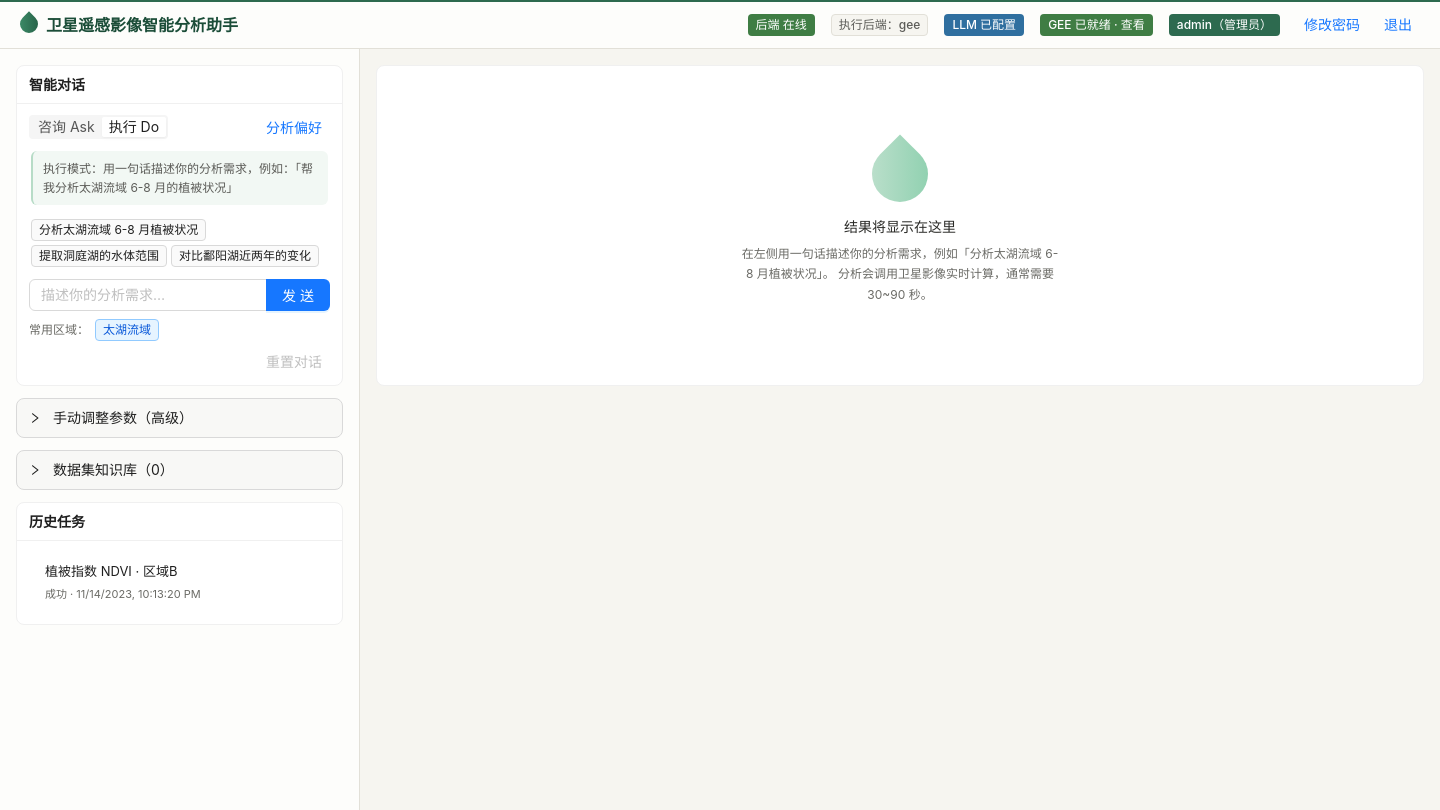
App · F6 详情加载失败不许停在"加载中" › 历史任务详情返回非 2xx 时，右栏给出明确失败而不是永久转圈
This screenshot has width=1440, height=810.
Click the text "植被指数 NDVI · 区域B": (88, 571) x1=45 y1=563 x2=177 y2=579
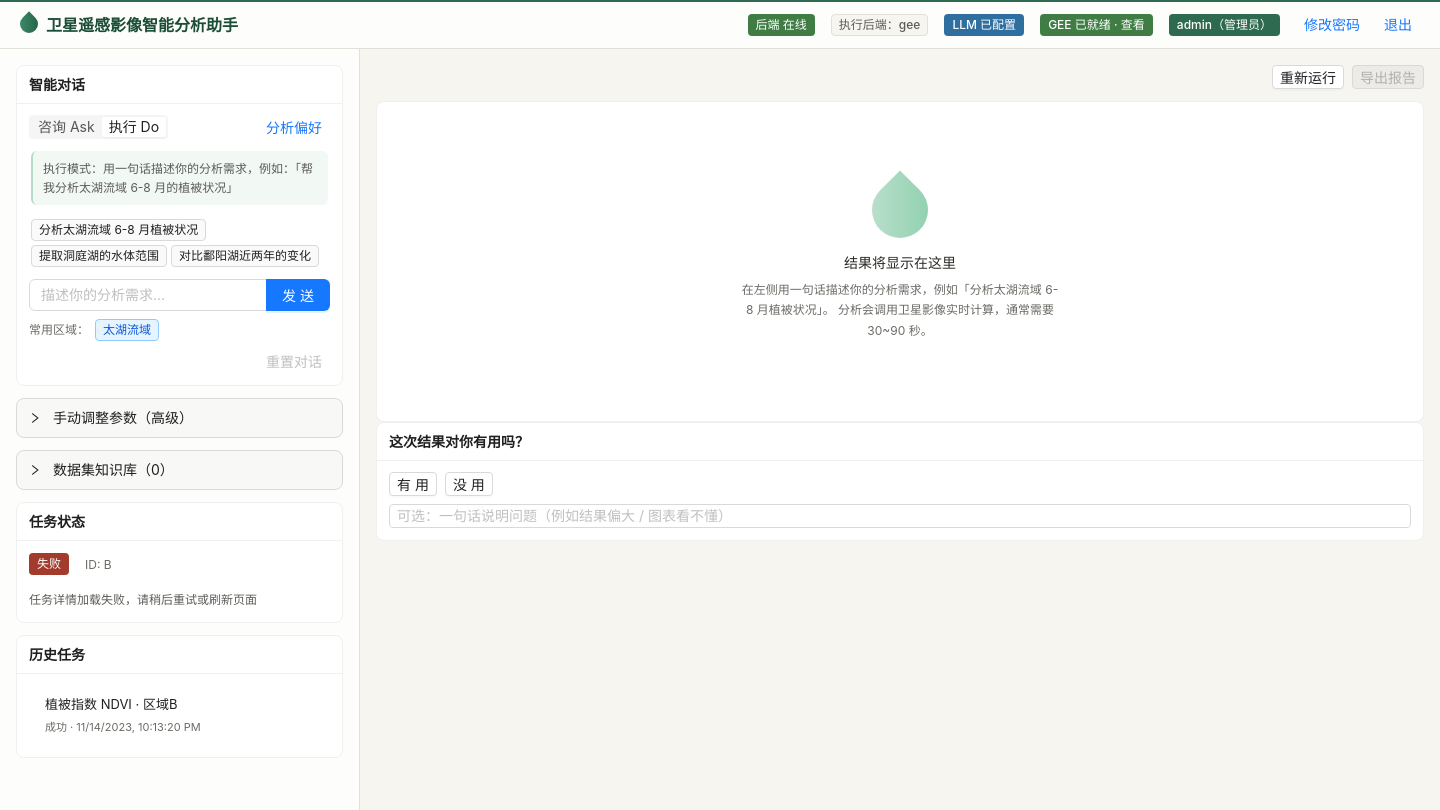
Now the element that starts with "卫星遥感影像智能分析助手" shows "任务详情加载失败", box x1=29 y1=593 x2=257 y2=607
Now the element that starts with "卫星遥感影像智能分析助手" shows "失败", box x1=37 y1=556 x2=61 y2=571
